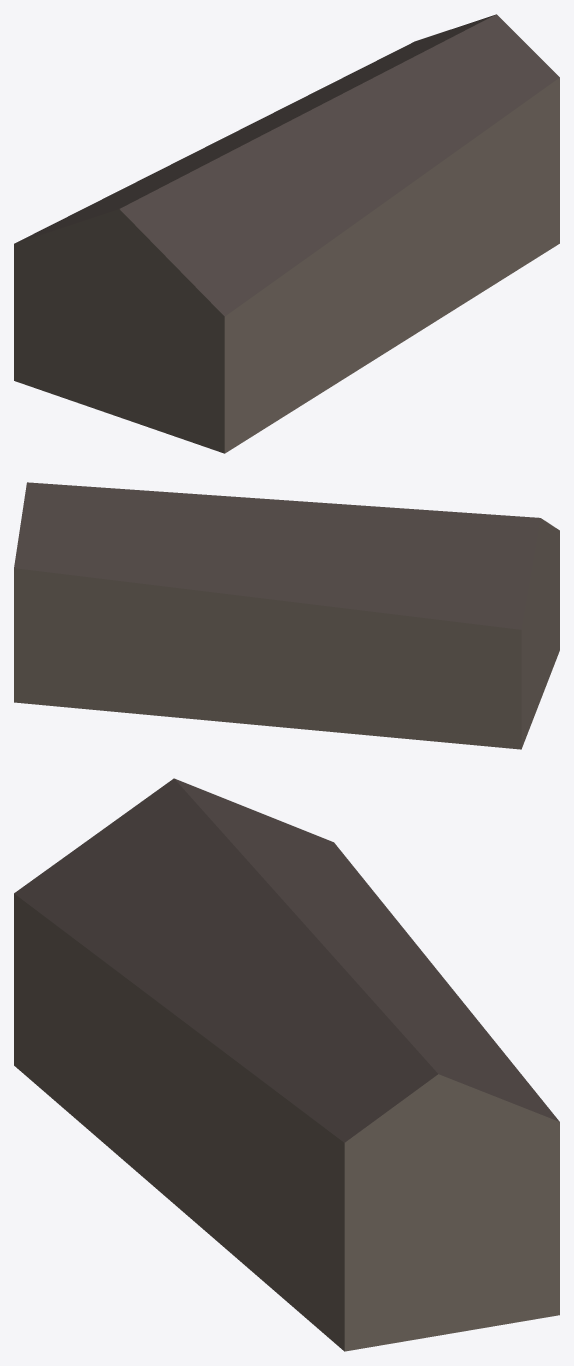
The picture shows the model from 3 angles, top to bottom: view 1: azimuth 30°, elevation 25°; view 2: azimuth 150°, elevation 25°; view 3: azimuth 270°, elevation 25°; orthographic projection. The views are drawn at different scales.
Parts seen in each view (by area): view 1: HP-w1196401645; view 2: HP-w1196401645; view 3: HP-w1196401645.
Part boxes in pixels (left/top/right/bottom): HP-w1196401645: left=14, top=14, right=559, bottom=453; HP-w1196401645: left=14, top=482, right=559, bottom=749; HP-w1196401645: left=14, top=778, right=559, bottom=1351.
Size of the model in its own units: 25.21 by 9.12 by 17.25.
